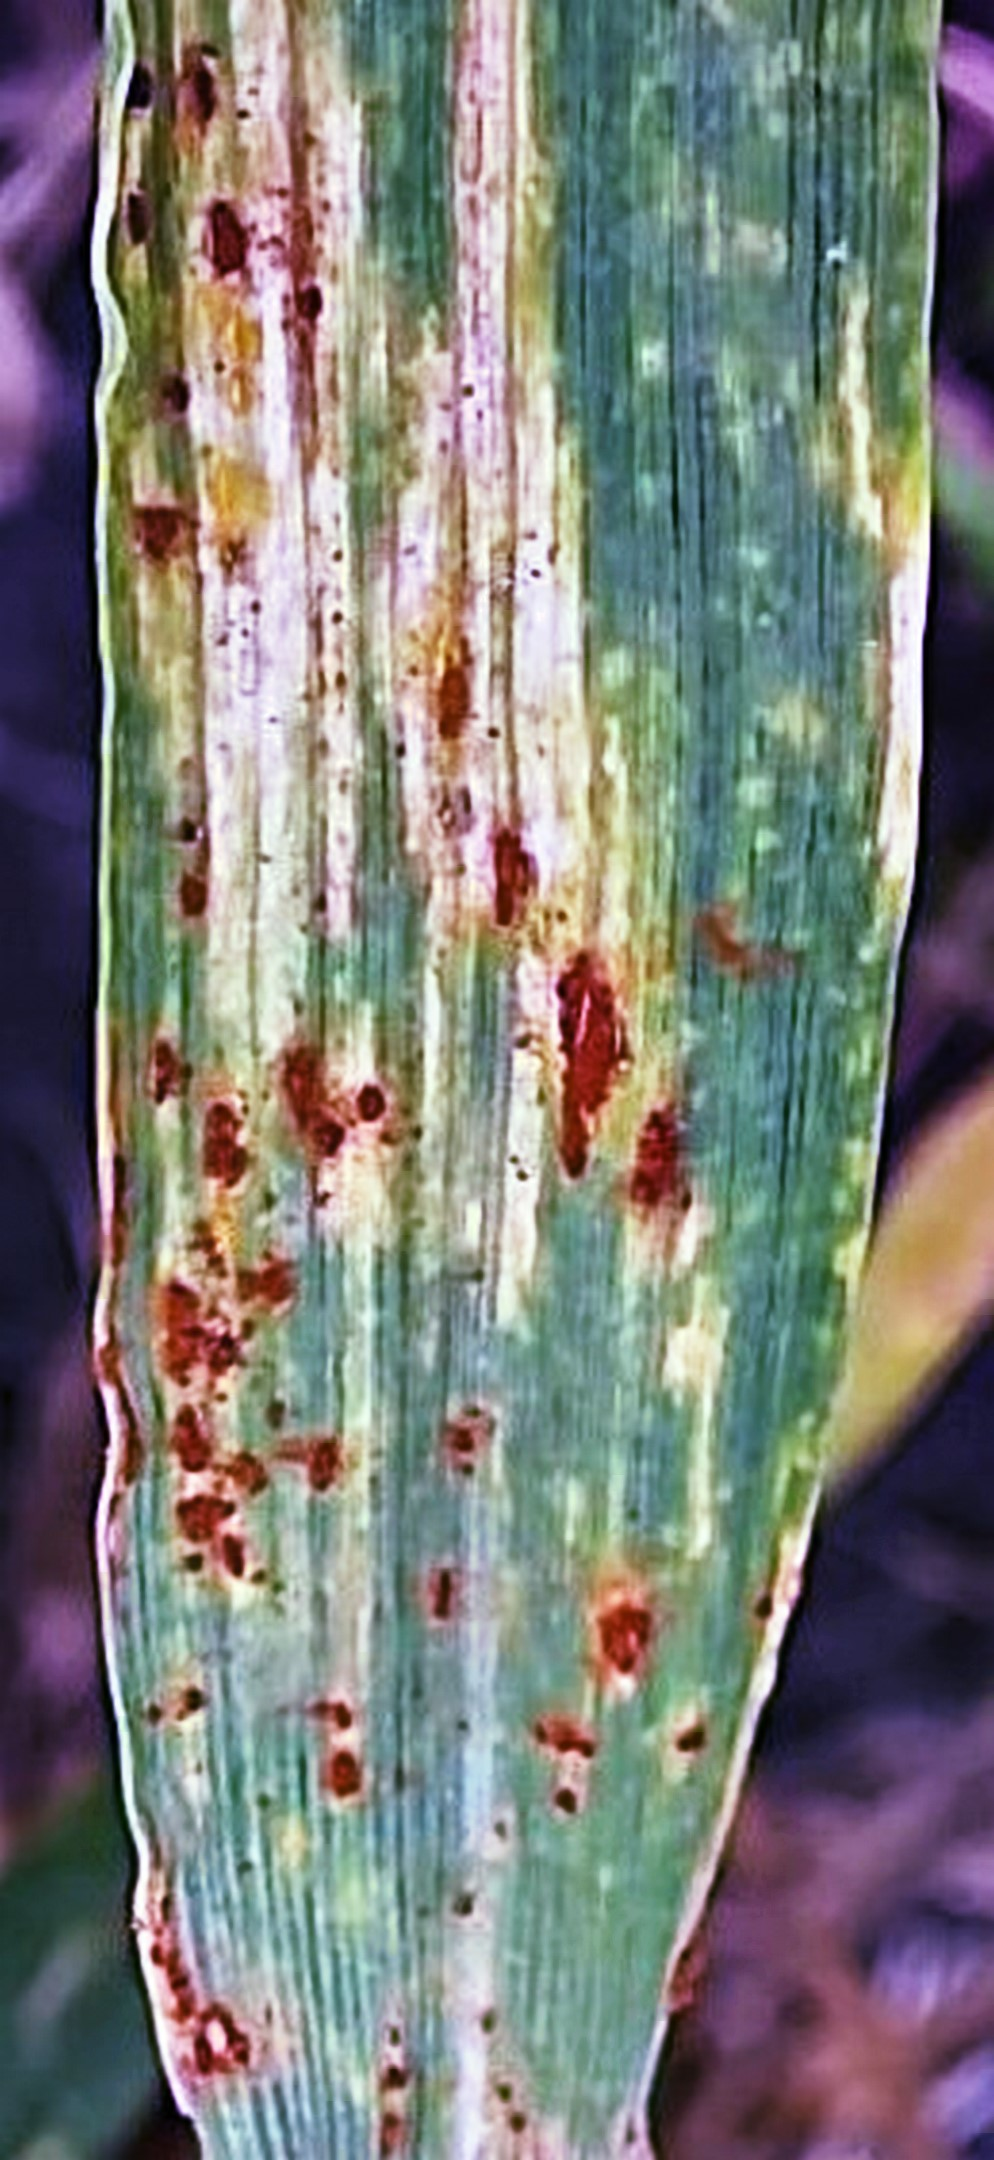Leaf Rust: (96, 174, 873, 2160)
